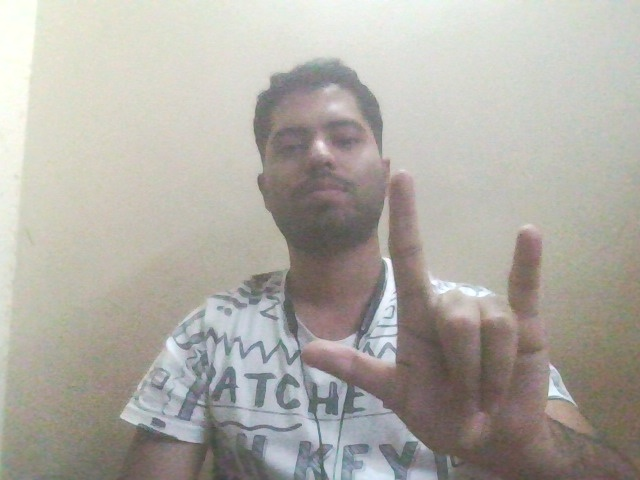K: (301, 162, 571, 467)
